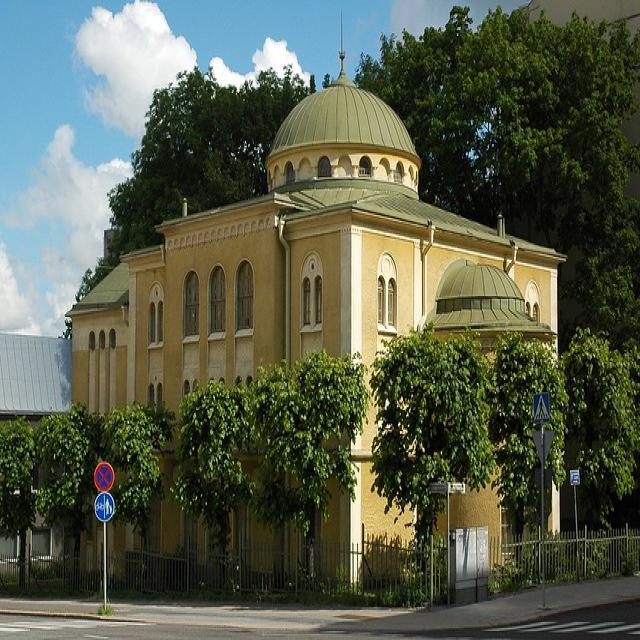building: (63, 73, 569, 602)
